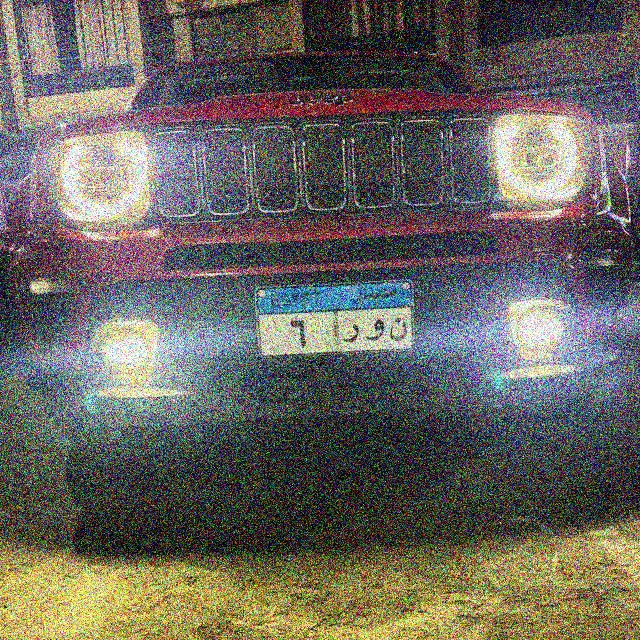License Plate: (252, 276, 419, 360)
